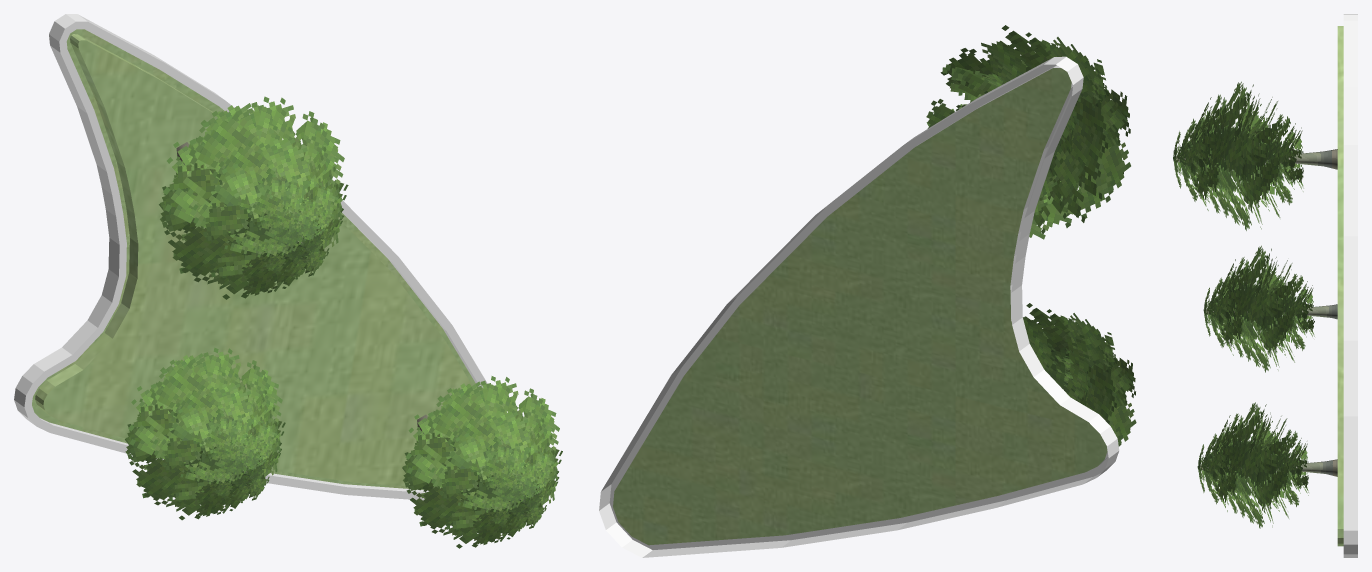
3 renders of one model, left to right at view 1: azimuth 30°, elevation 25°; view 2: azimuth 150°, elevation 25°; view 3: azimuth 270°, elevation 25°, orthographic. The views are drawn at different scales.
Visible parts, largest first — view 1: 贝塞尔圆.002, 数木1.008, 数木1.002, 数木1.014, 贝塞尔圆; view 2: 贝塞尔圆, 数木1.008, 数木1.014; view 3: 数木1.008, 数木1.002, 数木1.014, 贝塞尔圆, 贝塞尔圆.002.
Part boxes in pixels (x1,y1,x2,y2): 贝塞尔圆.002: (35, 34, 472, 488); 数木1.008: (159, 96, 348, 299); 数木1.002: (402, 376, 562, 548); 数木1.014: (125, 347, 285, 520); 贝塞尔圆: (14, 14, 487, 500); 贝塞尔圆: (599, 56, 1119, 557); 数木1.008: (926, 25, 1130, 239); 数木1.014: (1023, 303, 1136, 446); 数木1.008: (1173, 81, 1337, 230); 数木1.002: (1197, 402, 1337, 528); 数木1.014: (1203, 245, 1337, 372); 贝塞尔圆: (1343, 14, 1357, 557); 贝塞尔圆.002: (1337, 26, 1343, 546).
Bounding box in the file's own units: 13.82 × 15.4 × 6.4.
Materials: 3 (2 with a texture image).
